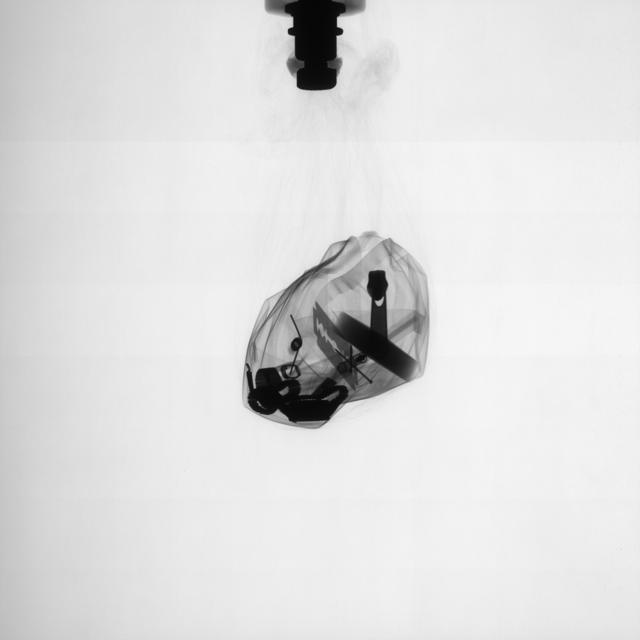razor: (312, 300, 366, 393)
